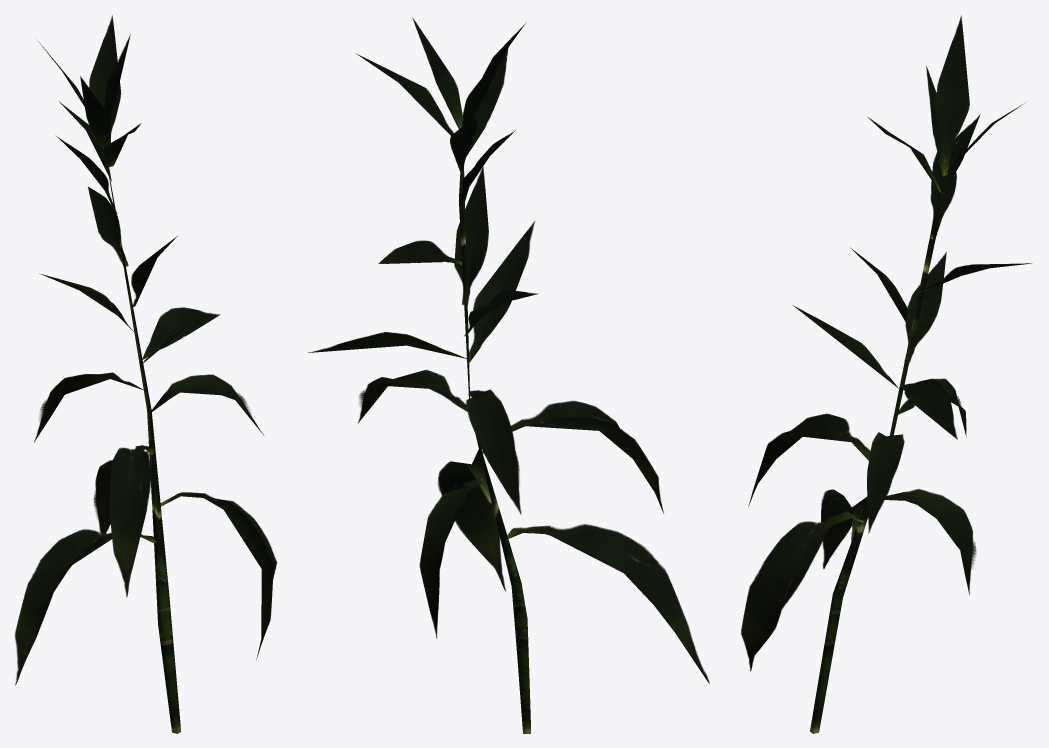
File: veg-49.glb
3 views of the same model, side by side, from view 1: azimuth 30°, elevation 25°; view 2: azimuth 150°, elevation 25°; view 3: azimuth 270°, elevation 25° (orthographic). The views are drawn at different scales.
Parts seen in each view (by area): view 1: _040e_VarC_LOD1_49; view 2: _040e_VarC_LOD1_49; view 3: _040e_VarC_LOD1_49.
Part boxes in pixels (x1=…): _040e_VarC_LOD1_49: x1=15, y1=15, x2=277, y2=733; _040e_VarC_LOD1_49: x1=308, y1=17, x2=709, y2=733; _040e_VarC_LOD1_49: x1=741, y1=15, x2=1032, y2=733.
Bounding box in the file's own units: 0.3157 × 0.7301 × 0.2853.
Materials: 1 (1 with a texture image).
